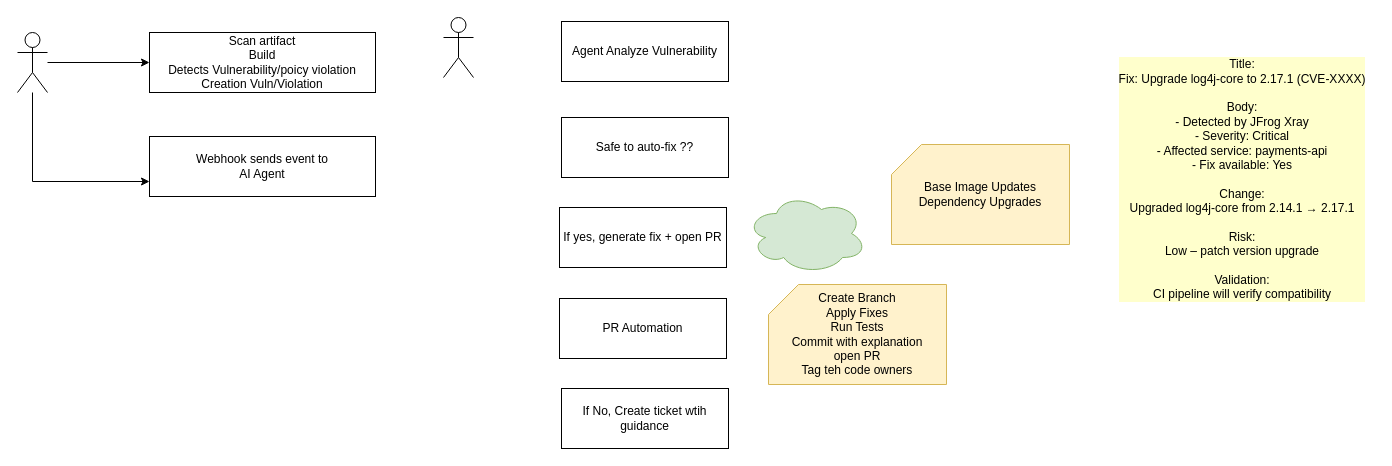
Some shapes in this 1392 by 466 pixel diagram are drawn without their labels. The shapes that lost their labels are listed below. From the top down, each one's centre as x and y in pixels, then its label:
the point at 32,62: XRay
the point at 458,47: AI Agent
the point at 806,233: HIghest ROI
